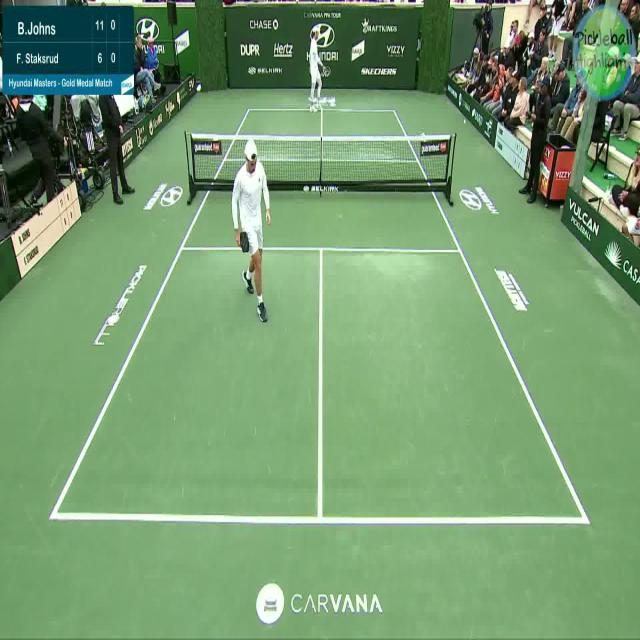Court: (52, 107, 589, 523)
ball: (462, 116, 468, 128)
